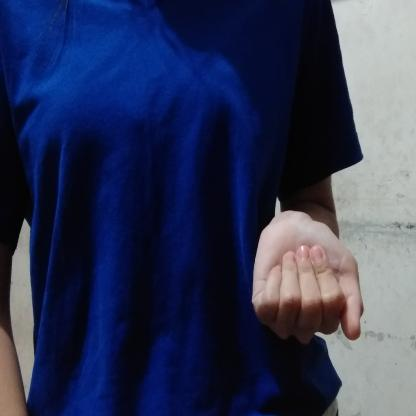where: (231, 203, 374, 353)
